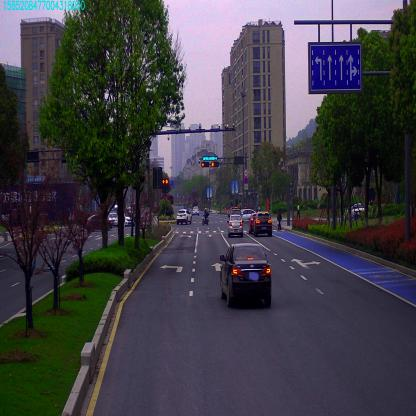traffic-light: (203, 154, 219, 162), (200, 161, 210, 166), (210, 162, 218, 166)
